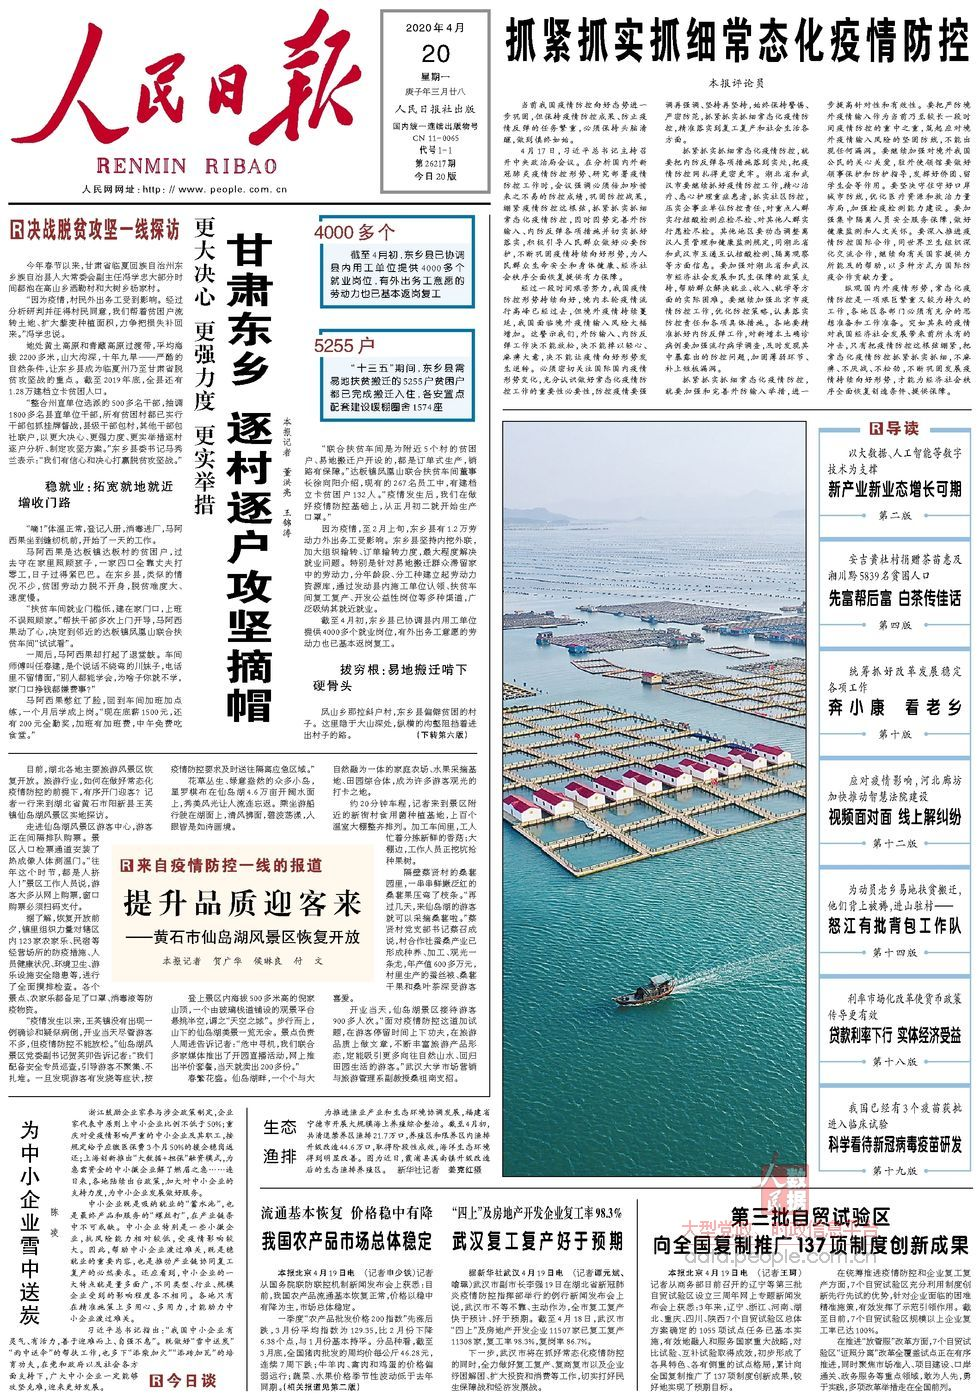pic: (499, 416, 811, 1184)
